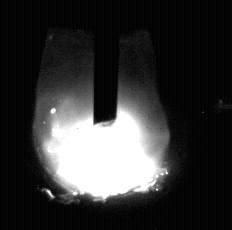arame: (94, 0, 119, 125)
poca: (32, 0, 170, 230)
